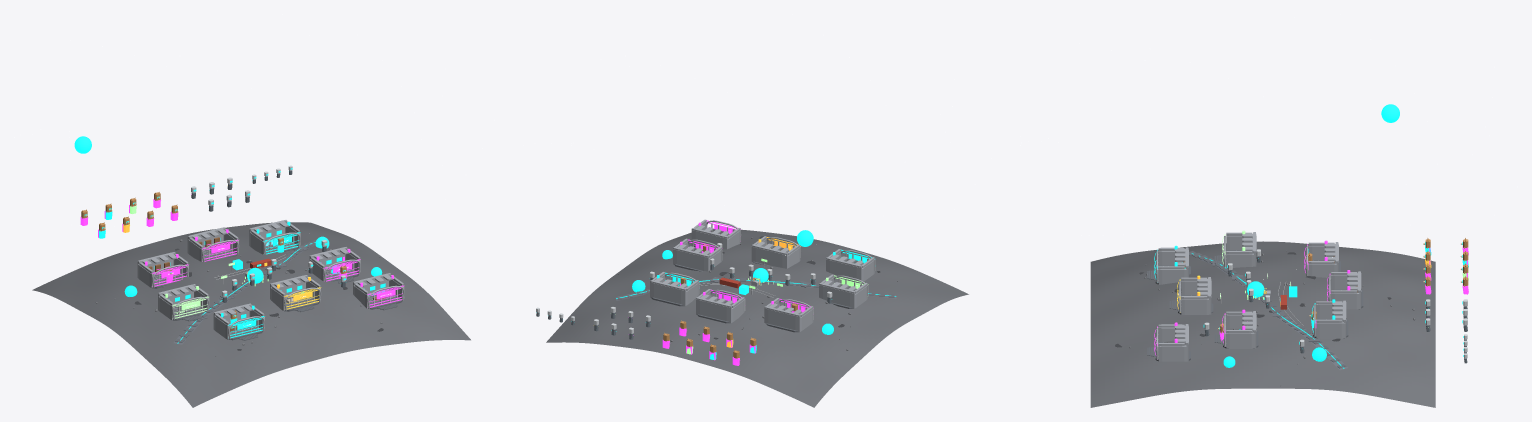
File: lunar-city-baseline.glb
3 renders of one model, left to right at view 1: azimuth 30°, elevation 25°; view 2: azimuth 150°, elevation 25°; view 3: azimuth 270°, elevation 25°, orthographic. The views are drawn at different scales.
Parts seen in each view (by area): view 1: terrain-colony-basin; view 2: terrain-colony-basin, library_back_wall, research-lab_back_wall, archive_back_wall, triage-clinic_back_wall, council-hall_back_wall, arts-studio_back_wall, engineering-workshop_back_wall; view 3: terrain-colony-basin, review-office_right_wall, council-hall_right_wall, research-lab_right_wall, triage-clinic_right_wall.
Boxes of the visible parts, x1,y1,x2,y2 form: terrain-colony-basin: (32,222,470,407); terrain-colony-basin: (546,229,968,407); library_back_wall: (764,308,800,332); research-lab_back_wall: (650,282,686,305); archive_back_wall: (696,299,731,323); triage-clinic_back_wall: (751,246,787,268); council-hall_back_wall: (673,249,709,271); arts-studio_back_wall: (819,285,854,308); engineering-workshop_back_wall: (826,259,861,283); terrain-colony-basin: (1090,241,1435,407); review-office_right_wall: (1158,345,1187,361); council-hall_right_wall: (1226,332,1255,348); research-lab_right_wall: (1316,322,1345,338); triage-clinic_right_wall: (1181,298,1210,314).
Size of the model in its own units: 64.7 by 33.84 by 66.41.
